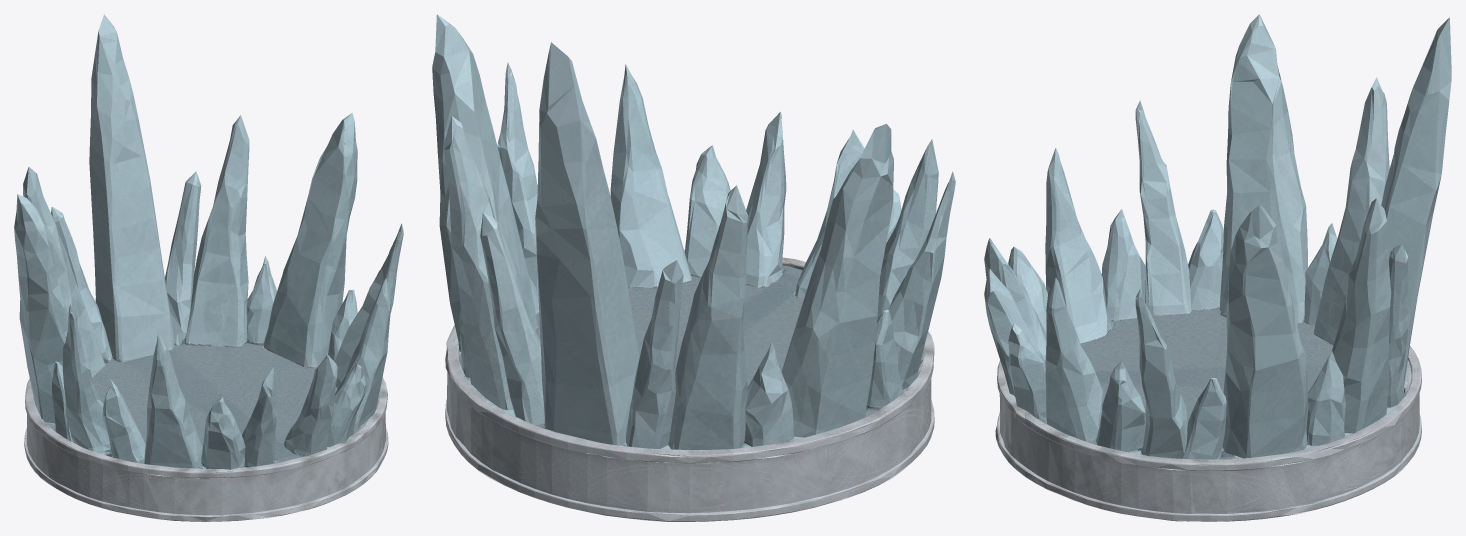
File: ewm_icecrown.glb
3 views of the same model, side by side, from view 1: azimuth 30°, elevation 25°; view 2: azimuth 150°, elevation 25°; view 3: azimuth 270°, elevation 25° (orthographic). The views are drawn at different scales.
Visible parts, largest first — view 1: ewm_icecrown; view 2: ewm_icecrown; view 3: ewm_icecrown.
Part boxes in pixels (x1,y1,x2,y2): ewm_icecrown: [14, 14, 403, 521]; ewm_icecrown: [432, 14, 955, 521]; ewm_icecrown: [984, 14, 1451, 521].
Bounding box in the file's own units: 0.1775 × 0.1791 × 0.1822.
Materials: 1 (1 with a texture image).
